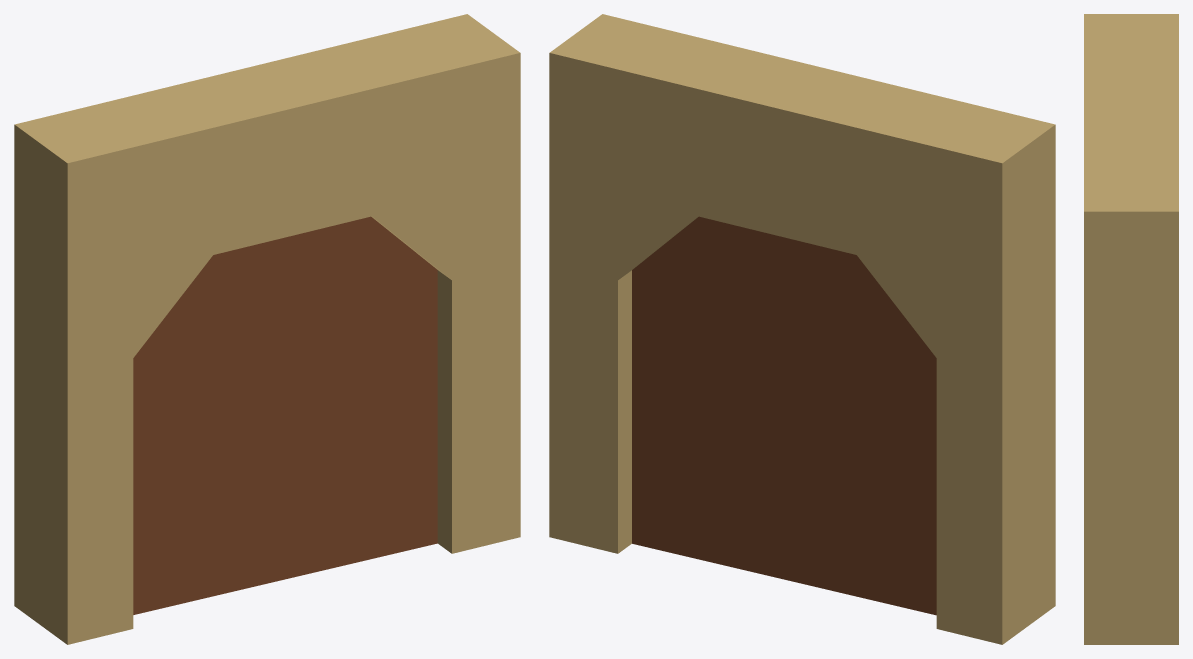
File: Door.fbx
The picture shows the model from 3 angles, left to right: view 1: azimuth 30°, elevation 25°; view 2: azimuth 150°, elevation 25°; view 3: azimuth 270°, elevation 25°; orthographic projection. The views are drawn at different scales.
Visible parts, largest first — view 1: Cube, Cube.001; view 2: Cube, Cube.001; view 3: Cube.
Part boxes in pixels (box(x1,y1,x2,y2)): Cube: box(14, 14, 520, 644); Cube.001: box(133, 216, 437, 614); Cube: box(549, 14, 1055, 644); Cube.001: box(632, 216, 936, 615); Cube: box(1084, 14, 1178, 644).
Bounding box in the file's own units: 397 × 405 × 80.45.
